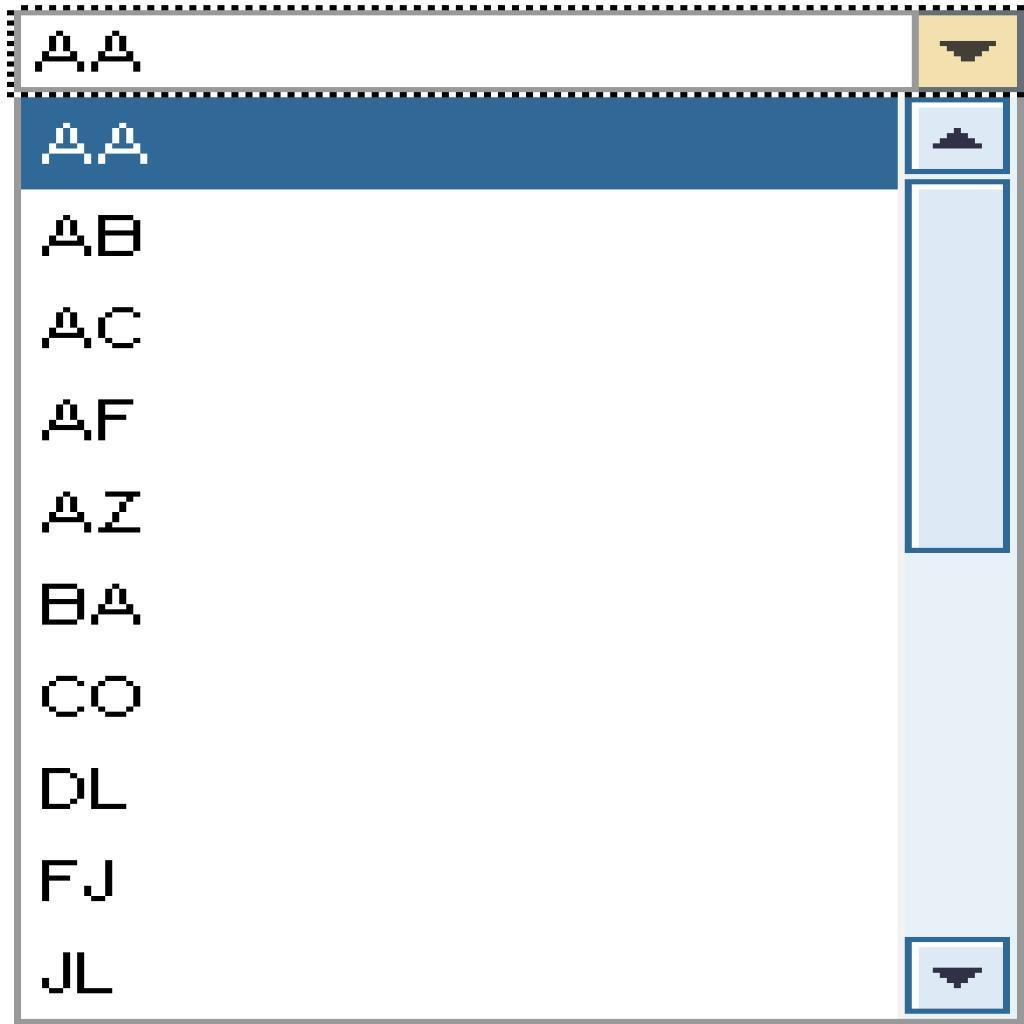dropdown: (17, 11, 1024, 91)
